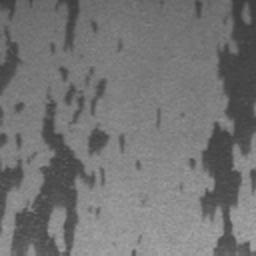Red iron sheet: (0, 0, 124, 256), (189, 0, 256, 256), (195, 0, 204, 18), (118, 40, 124, 50), (131, 248, 137, 256), (136, 161, 141, 170)
